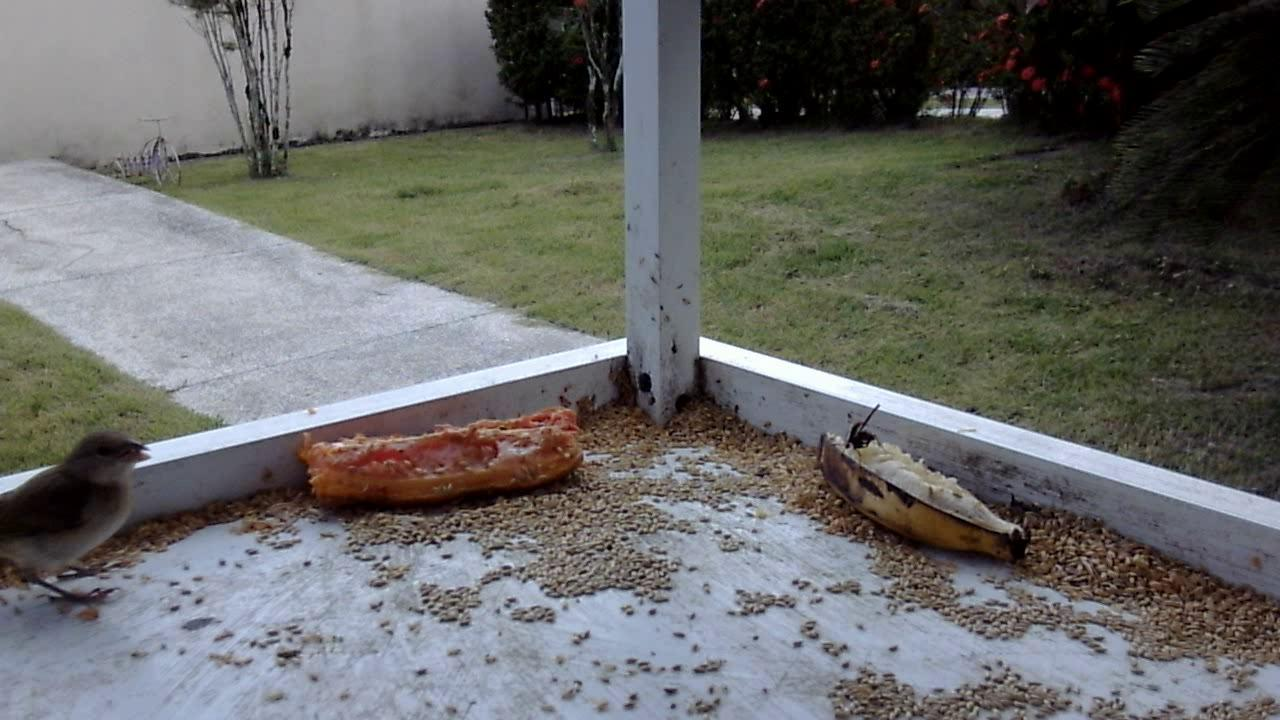canario_do_amazonas: (3, 426, 167, 619)
